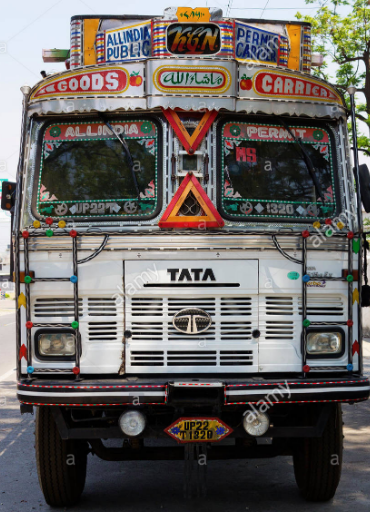truck: (1, 10, 366, 506)
